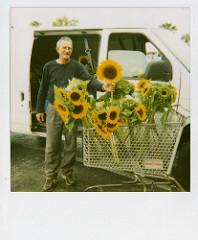sunflower: (97, 60, 122, 83), (90, 115, 109, 139), (72, 101, 88, 118), (54, 102, 70, 117), (92, 108, 108, 121), (67, 91, 83, 103), (134, 105, 146, 120), (107, 108, 118, 123), (137, 77, 147, 89)
